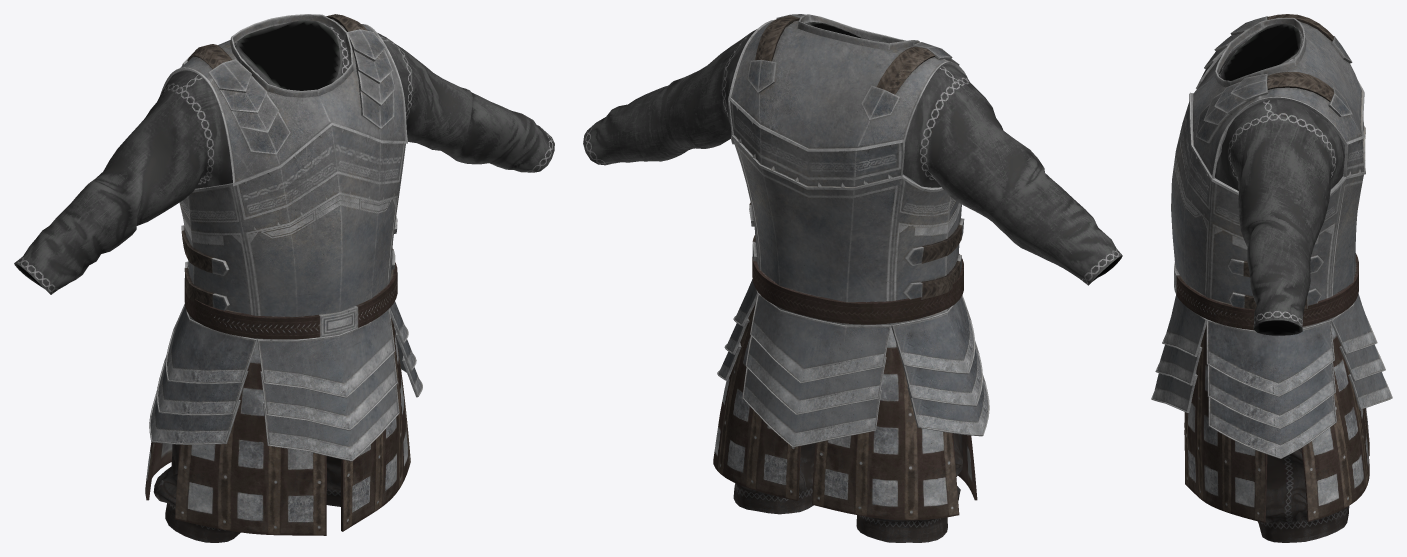
Rendered from sk_dwarf_erebor_chest_plate_heavy_f.fbx.
3 views of the same model, side by side, from view 1: azimuth 30°, elevation 25°; view 2: azimuth 150°, elevation 25°; view 3: azimuth 270°, elevation 25° (orthographic). The views are drawn at different scales.
Visible parts, largest first — view 1: sk_dwarf_erebor_chest_plate_heavy_f.2, sk_dwarf_erebor_chest_plate_heavy_f.0, sk_dwarf_erebor_chest_plate_heavy_f.1; view 2: sk_dwarf_erebor_chest_plate_heavy_f.2, sk_dwarf_erebor_chest_plate_heavy_f.0, sk_dwarf_erebor_chest_plate_heavy_f.1; view 3: sk_dwarf_erebor_chest_plate_heavy_f.2, sk_dwarf_erebor_chest_plate_heavy_f.0, sk_dwarf_erebor_chest_plate_heavy_f.1.
Part boxes in pixels (bbox=[...]): sk_dwarf_erebor_chest_plate_heavy_f.2: bbox=[149, 14, 422, 461]; sk_dwarf_erebor_chest_plate_heavy_f.0: bbox=[14, 20, 554, 535]; sk_dwarf_erebor_chest_plate_heavy_f.1: bbox=[153, 444, 340, 542]; sk_dwarf_erebor_chest_plate_heavy_f.2: bbox=[717, 14, 989, 447]; sk_dwarf_erebor_chest_plate_heavy_f.0: bbox=[583, 22, 1122, 520]; sk_dwarf_erebor_chest_plate_heavy_f.1: bbox=[733, 433, 962, 542]; sk_dwarf_erebor_chest_plate_heavy_f.2: bbox=[1151, 14, 1392, 458]; sk_dwarf_erebor_chest_plate_heavy_f.0: bbox=[1174, 23, 1369, 522]; sk_dwarf_erebor_chest_plate_heavy_f.1: bbox=[1258, 448, 1349, 542].
Size of the model in its own units: 1.17 by 0.4861 by 1.03.
Materials: 3 (3 with a texture image).
